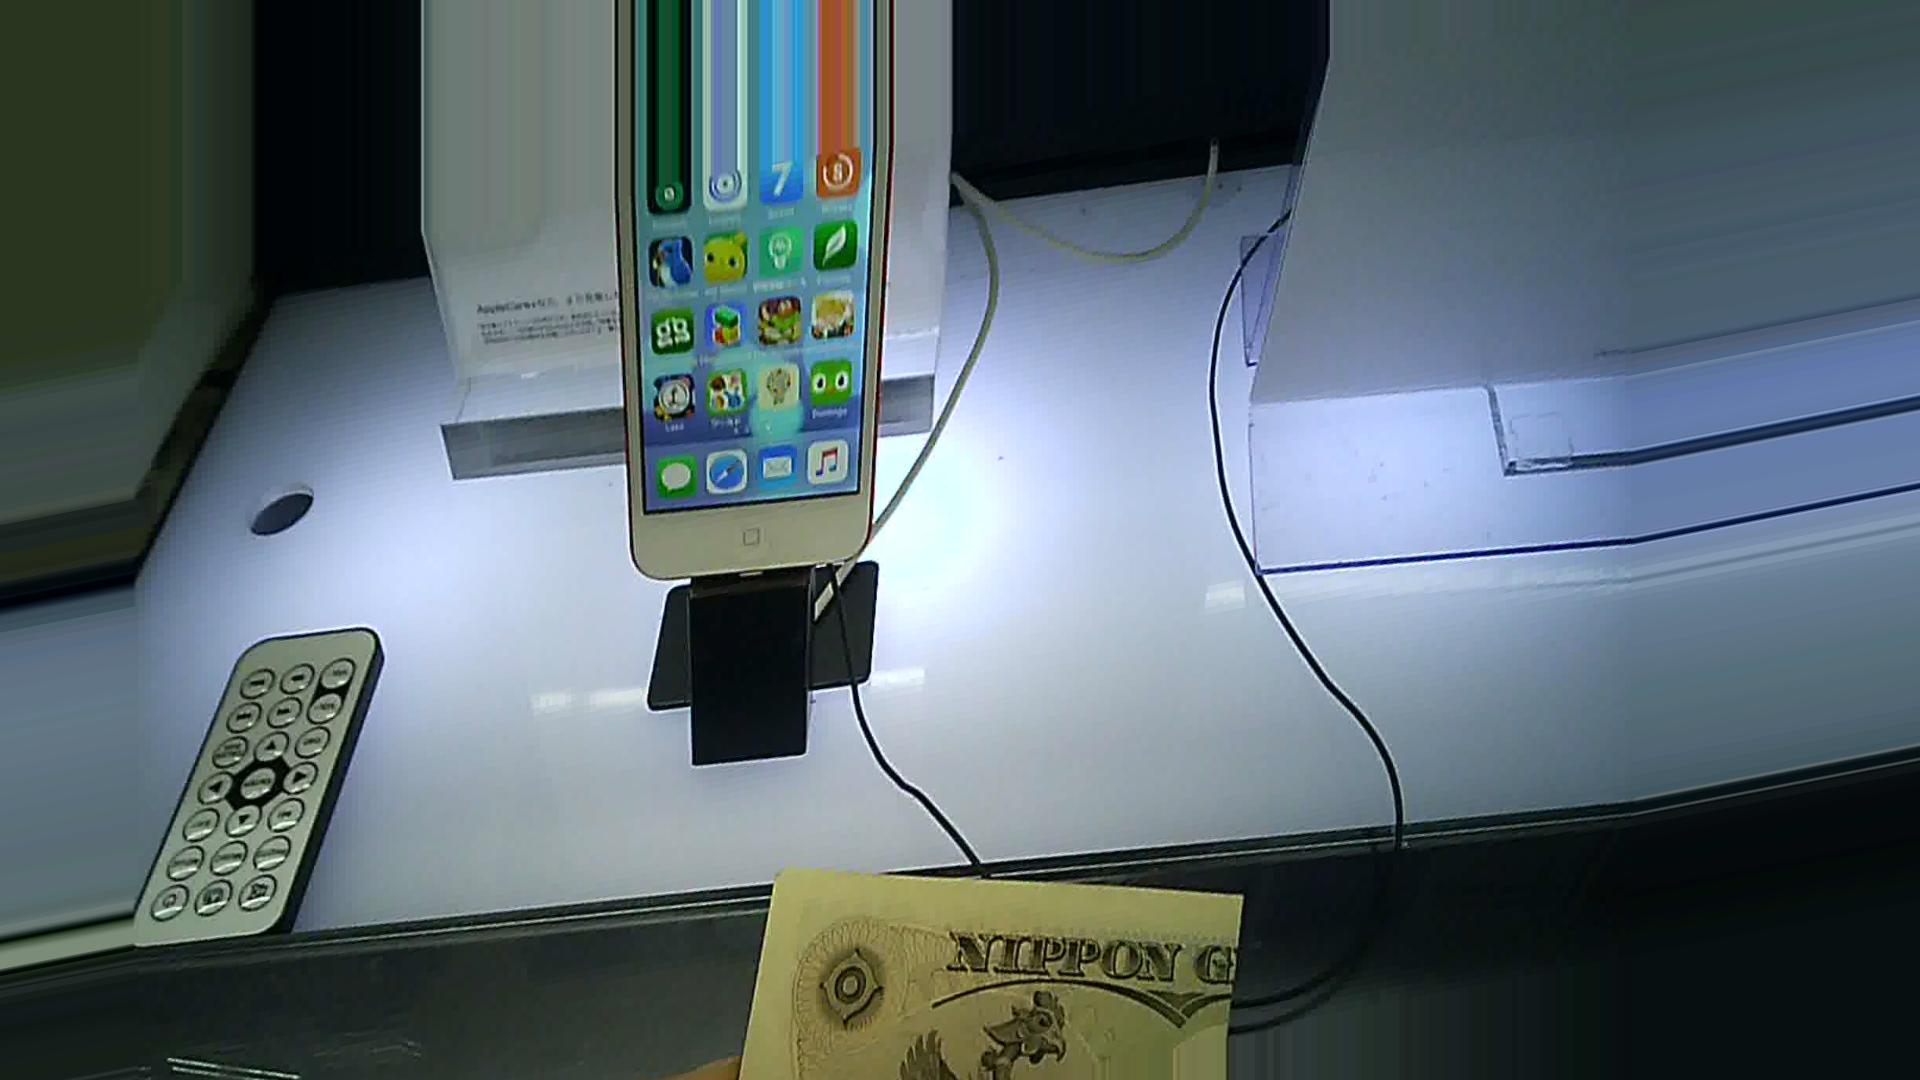10,000 Yen: (713, 803, 1253, 1079)
